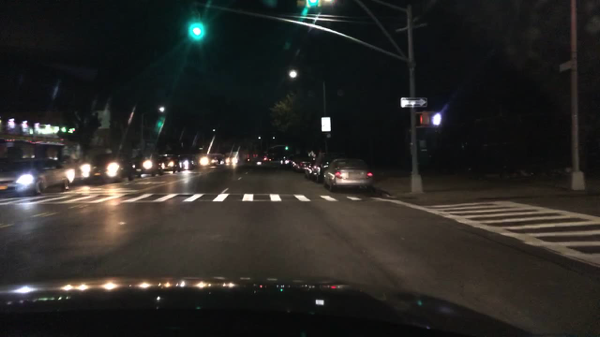car: (0, 158, 66, 194), (323, 155, 373, 193), (92, 152, 134, 181), (66, 158, 91, 185), (135, 155, 157, 176), (158, 154, 179, 174), (303, 162, 322, 182), (291, 154, 304, 172), (225, 151, 241, 165), (180, 157, 194, 171), (279, 156, 292, 168), (197, 154, 210, 166), (211, 155, 225, 166), (261, 151, 272, 163)
traffic light: (184, 21, 204, 43), (419, 113, 432, 128), (60, 123, 68, 136), (307, 8, 319, 10)
traffic sign: (397, 96, 427, 109), (321, 118, 333, 132), (558, 63, 572, 71)
